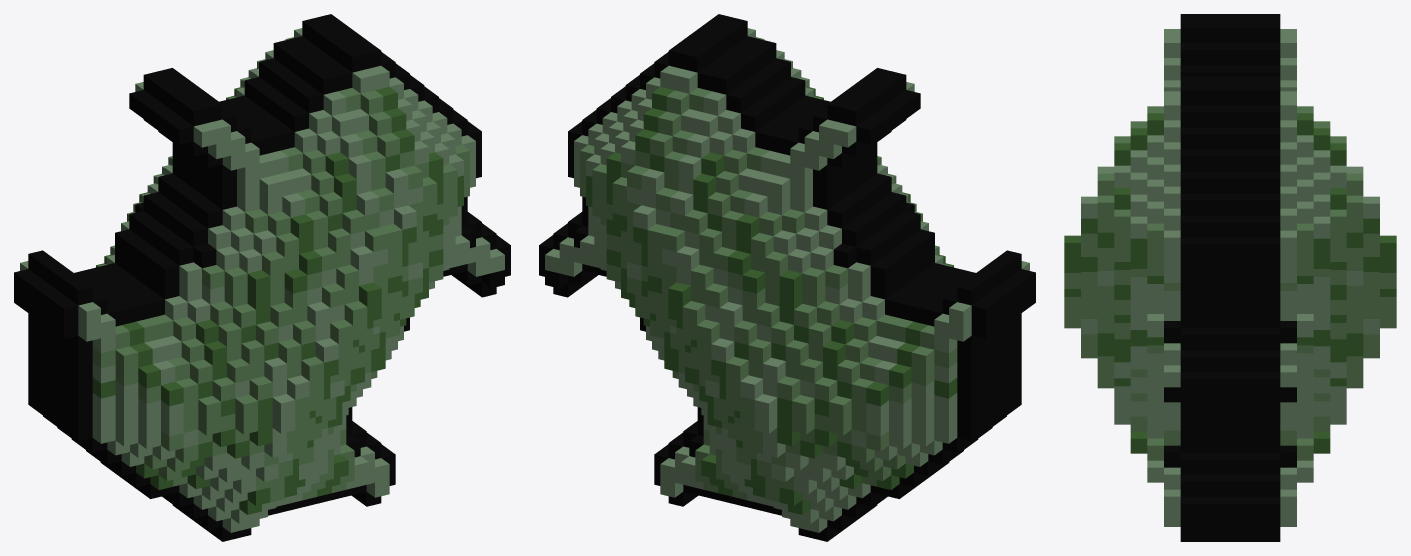
File: hide_troll.glb
3 views of the same model, side by side, from view 1: azimuth 30°, elevation 25°; view 2: azimuth 150°, elevation 25°; view 3: azimuth 270°, elevation 25° (orthographic).
Size of the model in its own units: 0.9688 by 0.9375 by 0.625.
